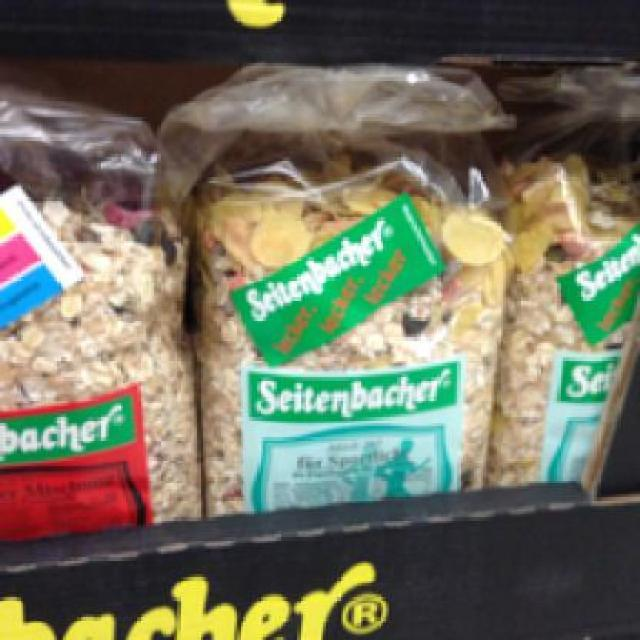Cereal: (196, 157, 509, 517), (0, 181, 192, 549), (488, 160, 638, 483)
